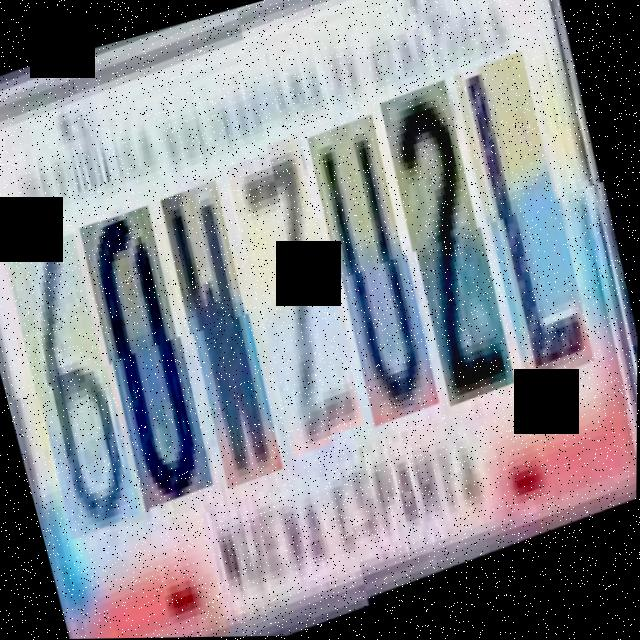0: (74, 206, 230, 515)
2: (376, 94, 535, 422)
6: (0, 232, 155, 540)
L: (450, 66, 615, 404)
U: (304, 127, 459, 440)
W: (155, 182, 299, 493)
Z: (221, 146, 382, 461)
